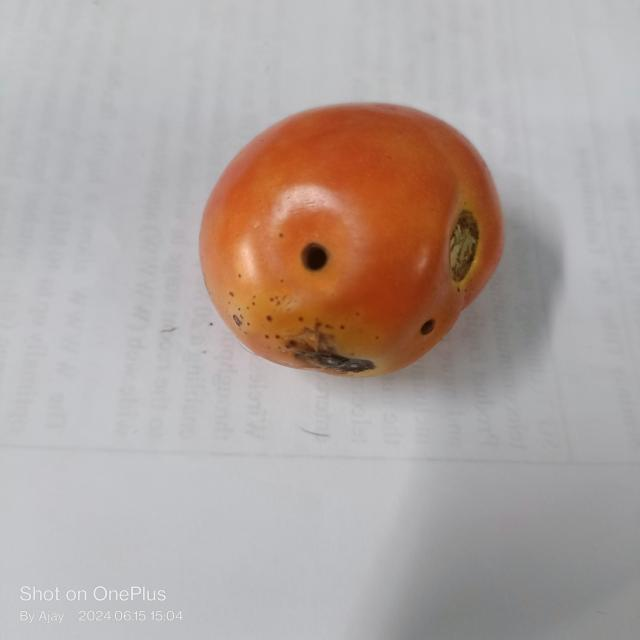fruitworm_bore: (294, 237, 336, 278), (418, 313, 445, 347)
